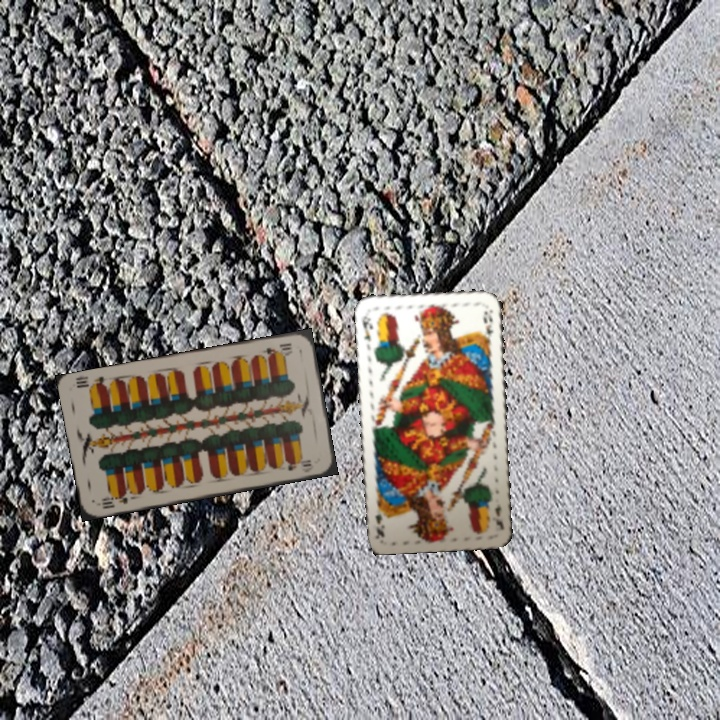E10: (97, 489, 130, 511), (259, 339, 294, 359)
EK: (358, 312, 376, 344), (491, 500, 507, 532)
